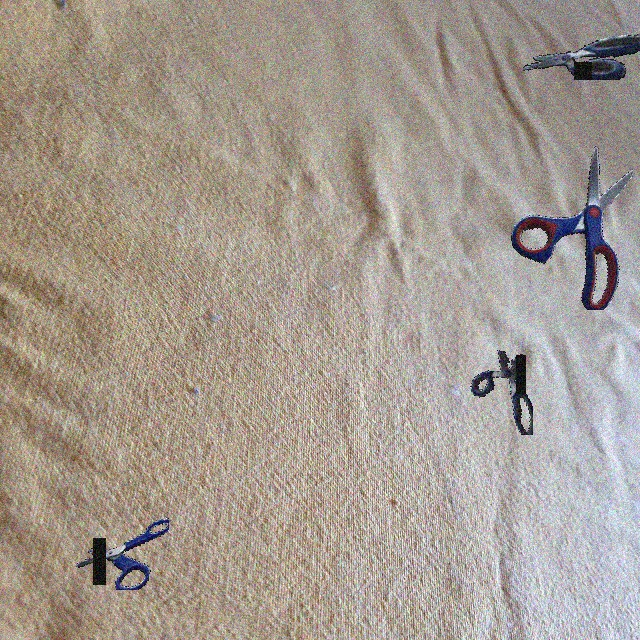scissors: (511, 146, 633, 310), (76, 518, 169, 590), (523, 34, 640, 80), (470, 350, 533, 435)
